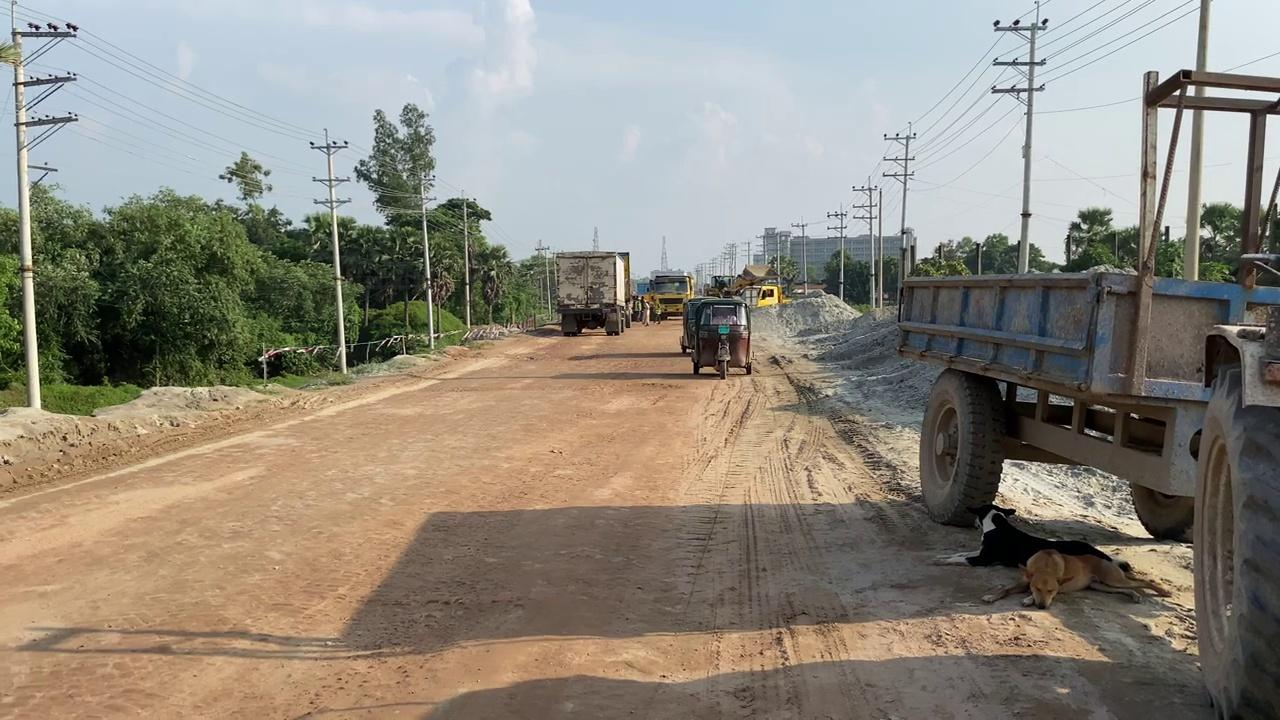Car: (680, 296, 752, 379)
Dog: (962, 503, 1171, 609)
Pole: (11, 29, 42, 408), (1182, 0, 1211, 280), (1016, 8, 1039, 273), (419, 175, 436, 350), (461, 195, 471, 328)
Tree: (894, 67, 1279, 717), (553, 250, 631, 336), (704, 263, 792, 308), (642, 271, 694, 323), (740, 281, 790, 308), (702, 274, 733, 297)
